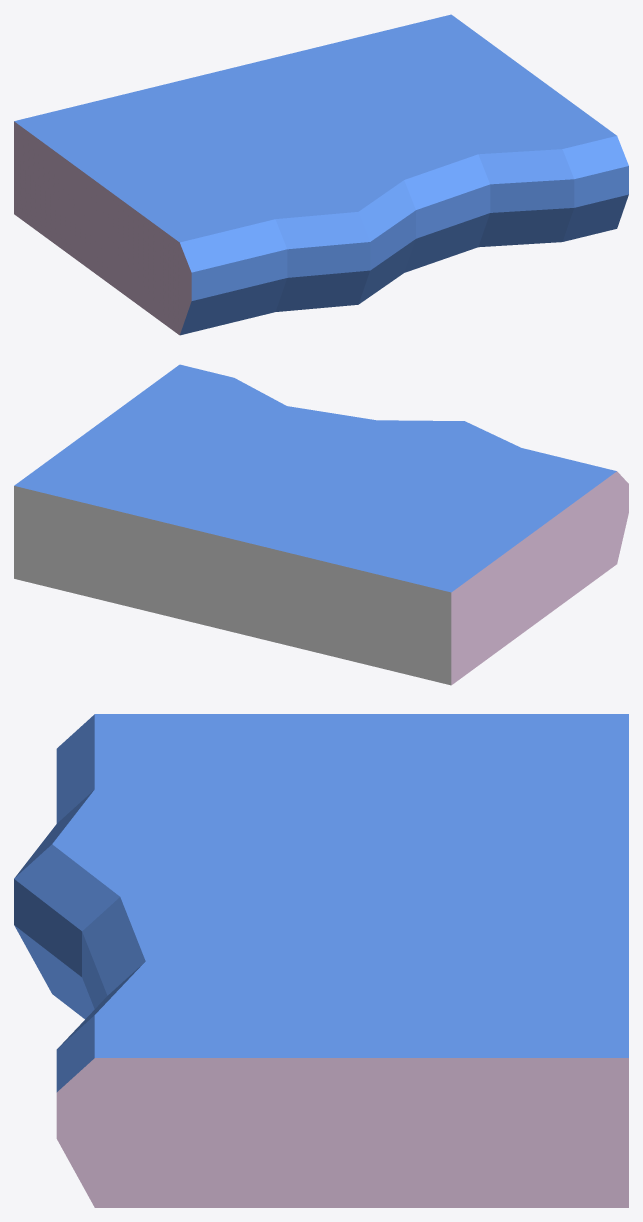
File: Iceberg_Straight_2x2_2.glb
3 renders of one model, top to bottom at view 1: azimuth 30°, elevation 25°; view 2: azimuth 150°, elevation 25°; view 3: azimuth 270°, elevation 25°, orthographic. The views are drawn at different scales.
Visible parts, largest first — view 1: Iceberg_Straight_2x2_2; view 2: Iceberg_Straight_2x2_2; view 3: Iceberg_Straight_2x2_2.
Part boxes in pixels (x1,y1,x2,y2): Iceberg_Straight_2x2_2: (14, 14, 628, 335); Iceberg_Straight_2x2_2: (14, 364, 628, 685); Iceberg_Straight_2x2_2: (14, 714, 628, 1207).
Bounding box in the file's own units: 200 × 40.63 × 151.
